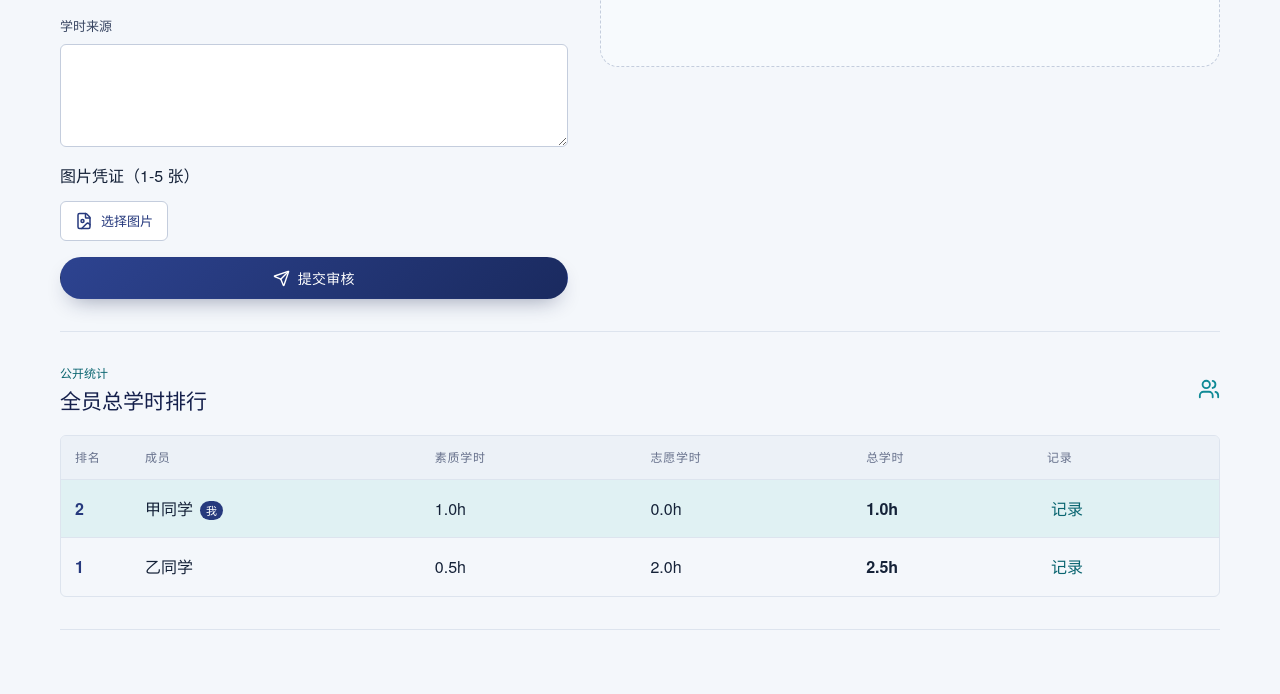
Test: CreditHoursView public disclosure › orders the tools before public statistics and opens records in a dialog
The width and height of the screenshot is (1280, 694).
(page scrolled)
What coordinates should you click on to do the following:
click the button "记录" in the row of "乙同学"
I would click on:
 (1067, 567)
Its box is [1047, 550, 1087, 584].
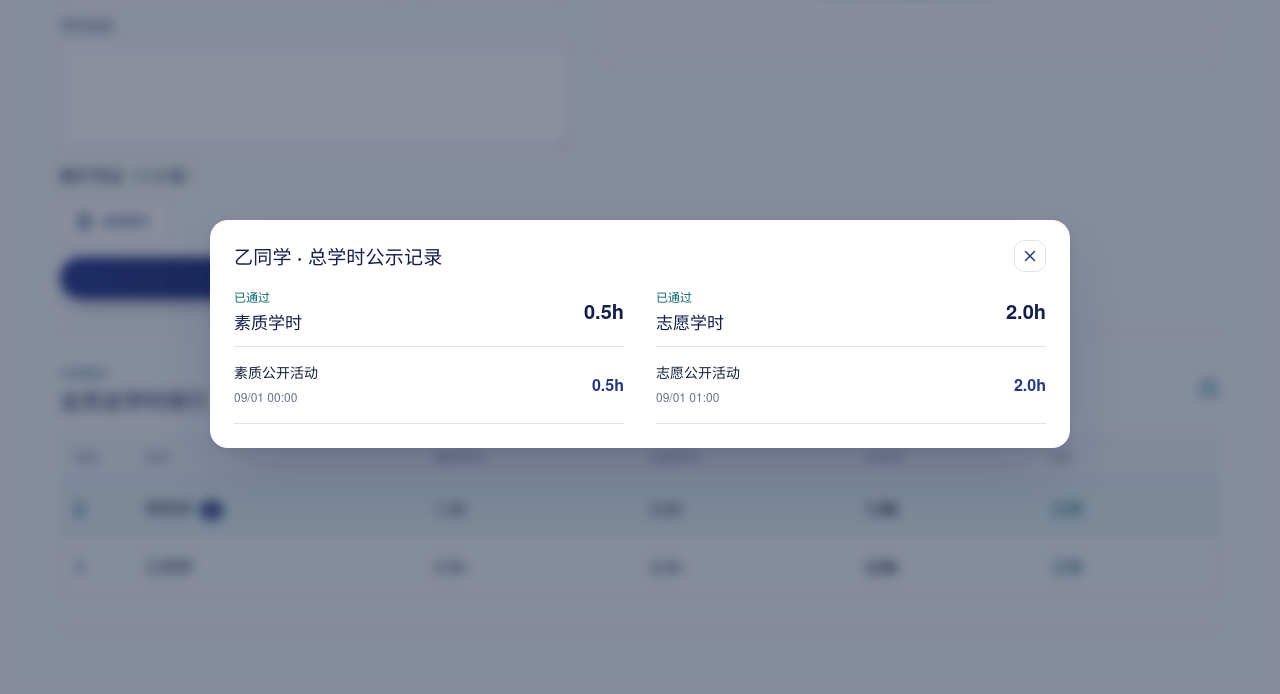
Expected: the dialog is shown, [210, 220, 1070, 448]
Expected: the dialog shows "乙同学 · 总学时公示记录", [234, 243, 442, 270]
Expected: the element showing "已通过 素质学时 0.5h 素质公开活动 09/01 00:00 0.5h" is shown, [234, 288, 624, 424]
What coordinates should you click on to do the following:
click the button named "关闭对话框"
I would click on:
 (1030, 256)
Its box is [1014, 240, 1046, 272].
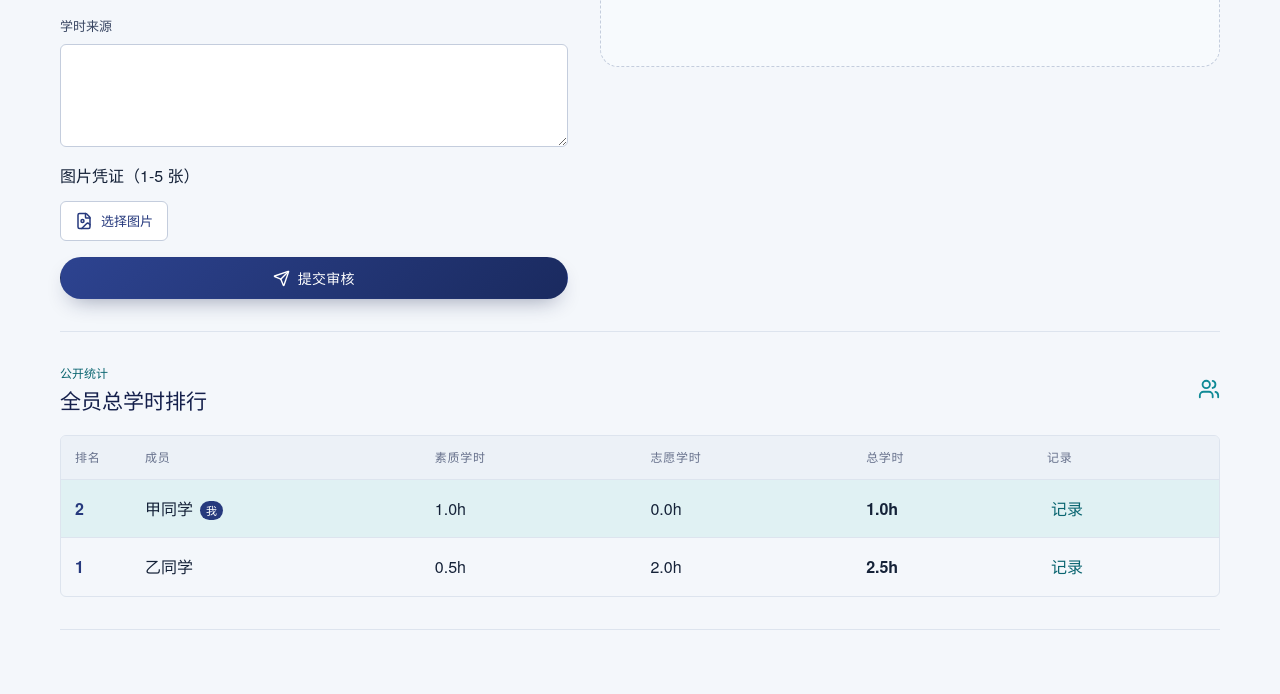
Expected: the dialog is gone
What coordinates should you click on to do the following:
click the button "记录" in the row of "甲同学"
I would click on:
 (1067, 509)
Its box is [1047, 492, 1087, 525].
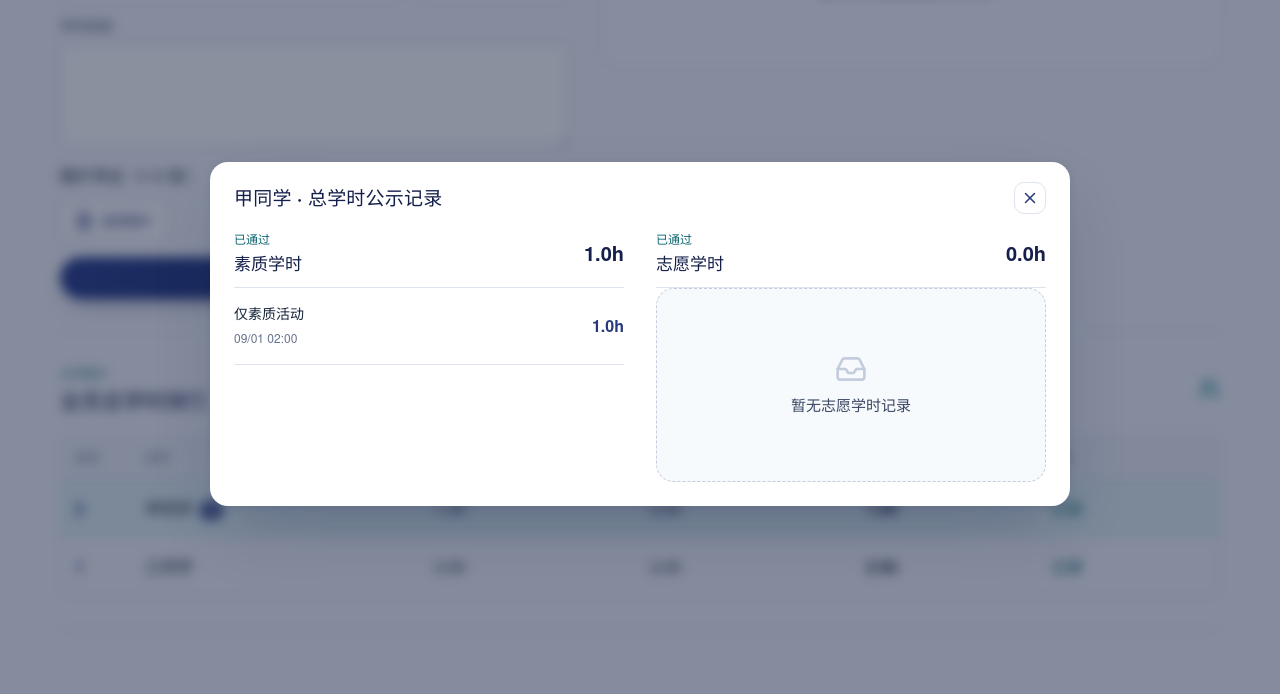
Expected: the text "仅素质活动" is not shown
Expected: the element showing "已通过 素质学时 1.0h 仅素质活动 09/01 02:00 1.0h" is shown, [234, 230, 624, 365]
Expected: the element showing "已通过 志愿学时 0.0h 暂无志愿学时记录" is shown, [656, 230, 1046, 482]
